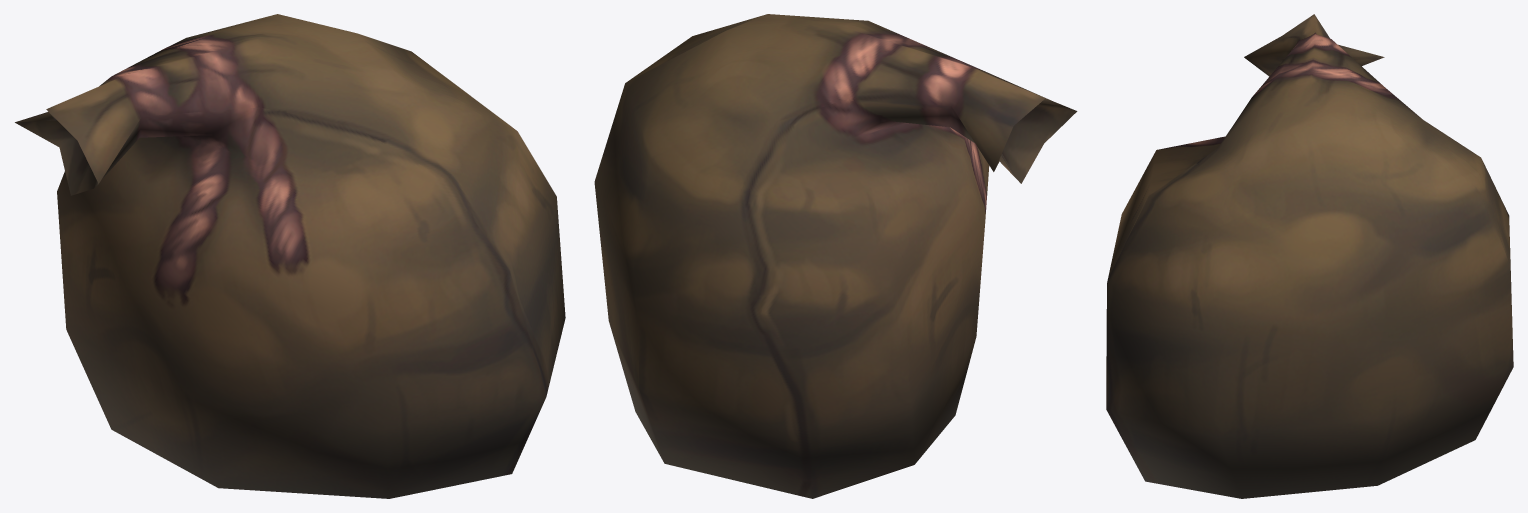
File: sack_of_potatoes_medium.fbx
3 views of the same model, side by side, from view 1: azimuth 30°, elevation 25°; view 2: azimuth 150°, elevation 25°; view 3: azimuth 270°, elevation 25° (orthographic). The views are drawn at different scales.
Visible parts, largest first — view 1: sack_of_potatoes_medium; view 2: sack_of_potatoes_medium; view 3: sack_of_potatoes_medium.
Boxes of the visible parts, x1=… form: sack_of_potatoes_medium: x1=15, y1=14, x2=565, y2=498; sack_of_potatoes_medium: x1=594, y1=14, x2=1077, y2=498; sack_of_potatoes_medium: x1=1106, y1=14, x2=1513, y2=498.
Bounding box in the file's own units: 72.03 × 61.77 × 65.55.
